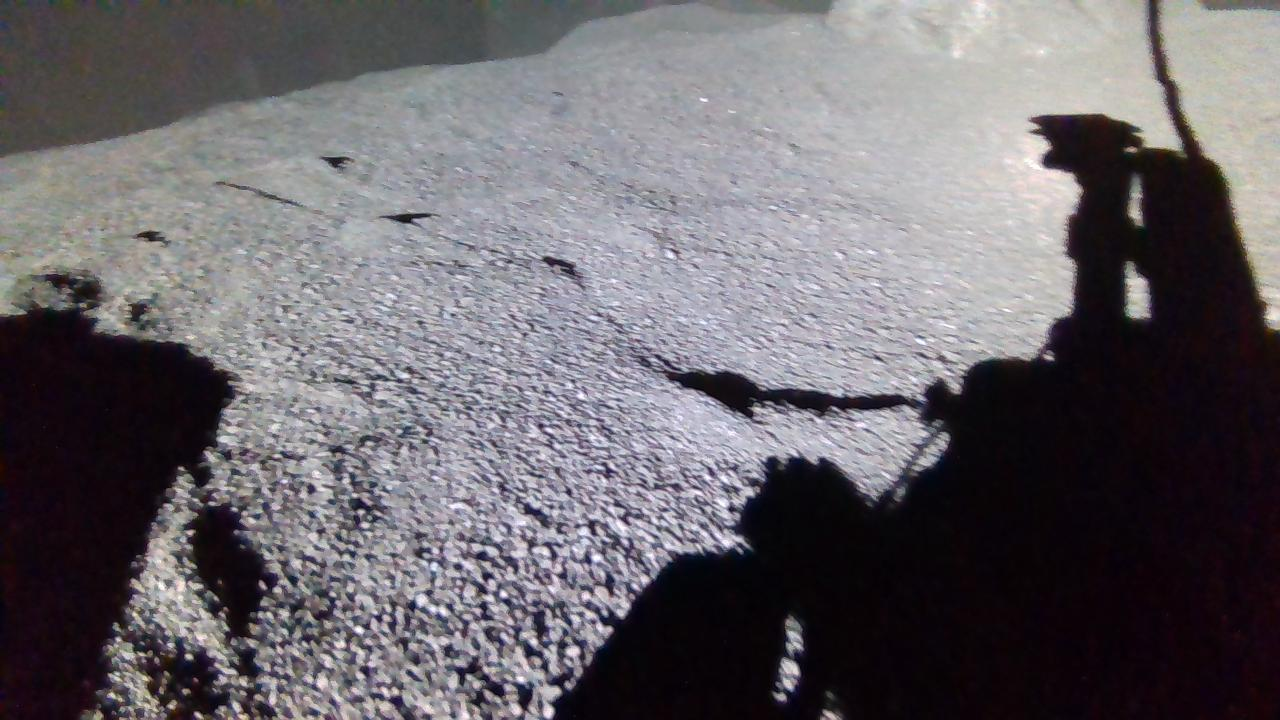rock: (829, 0, 1208, 61)
